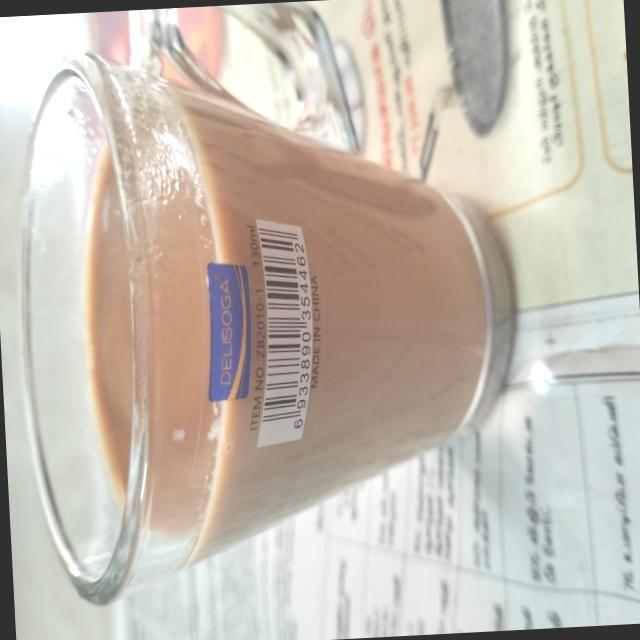glass-VX4N: (2, 0, 522, 600)
